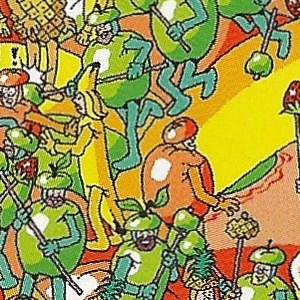Wenda: (142, 109, 158, 191)
